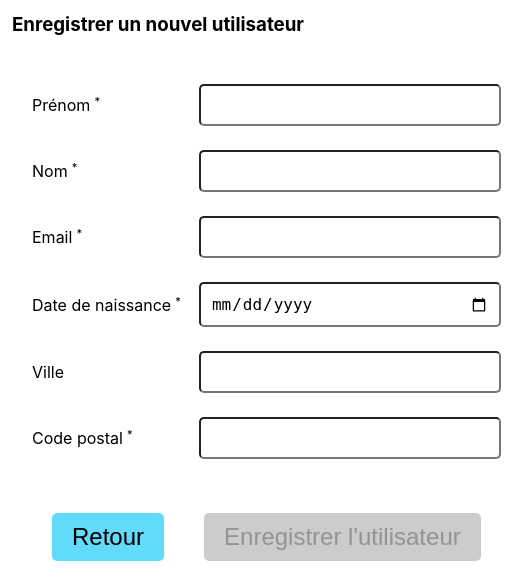
should enable submit button when all fields are valid
Check: the button with test id "submit-button" is disabled, box [204,513,481,561]
Type "John" into the field with test id "firstname-input" at [350, 105], box [199,84,501,126]
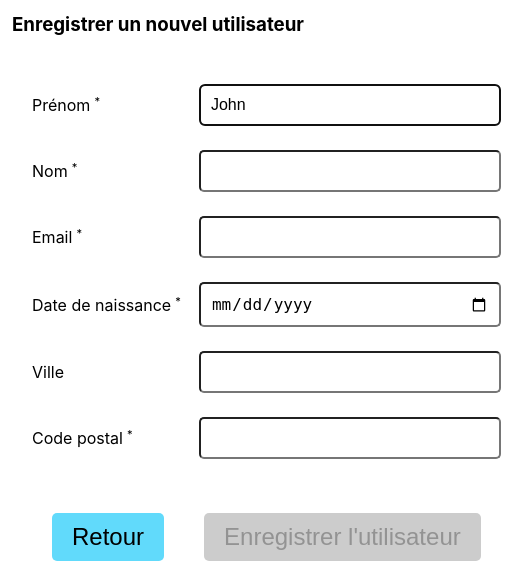
Type "Doe" into the field with test id "lastname-input" at [350, 171], box [199,150,501,192]
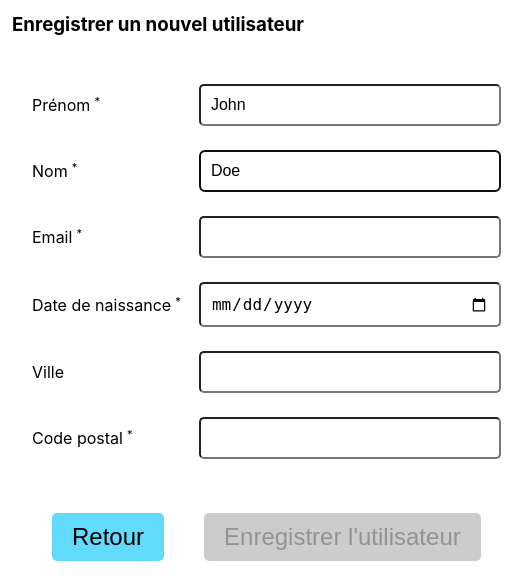
Type "john@example.com" into the field with test id "email-input" at [350, 237], box [199,216,501,258]
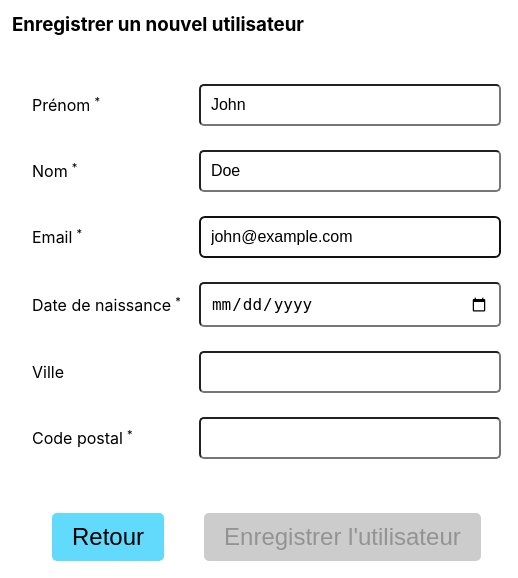
Type "1990-01-01" into the date field with test id "birth-input" at [350, 305], box [199,282,501,327]
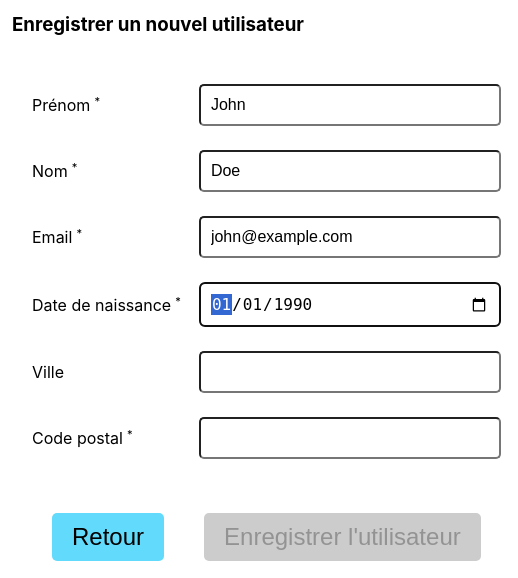
Type "Paris" into the field with test id "city-input" at [350, 372], box [199,351,501,393]
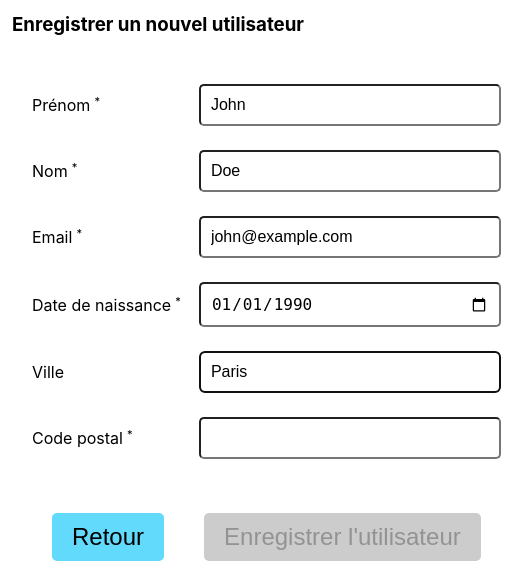
Type "75010" into the field with test id "zip-input" at [350, 438], box [199,417,501,459]
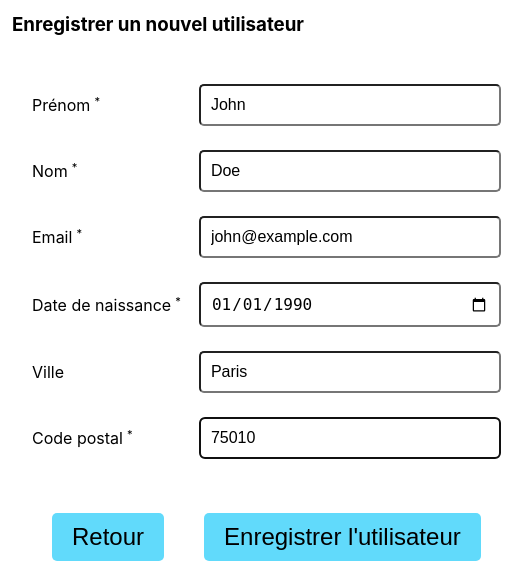
Check: the button with test id "submit-button" is enabled, box [204,513,481,561]
